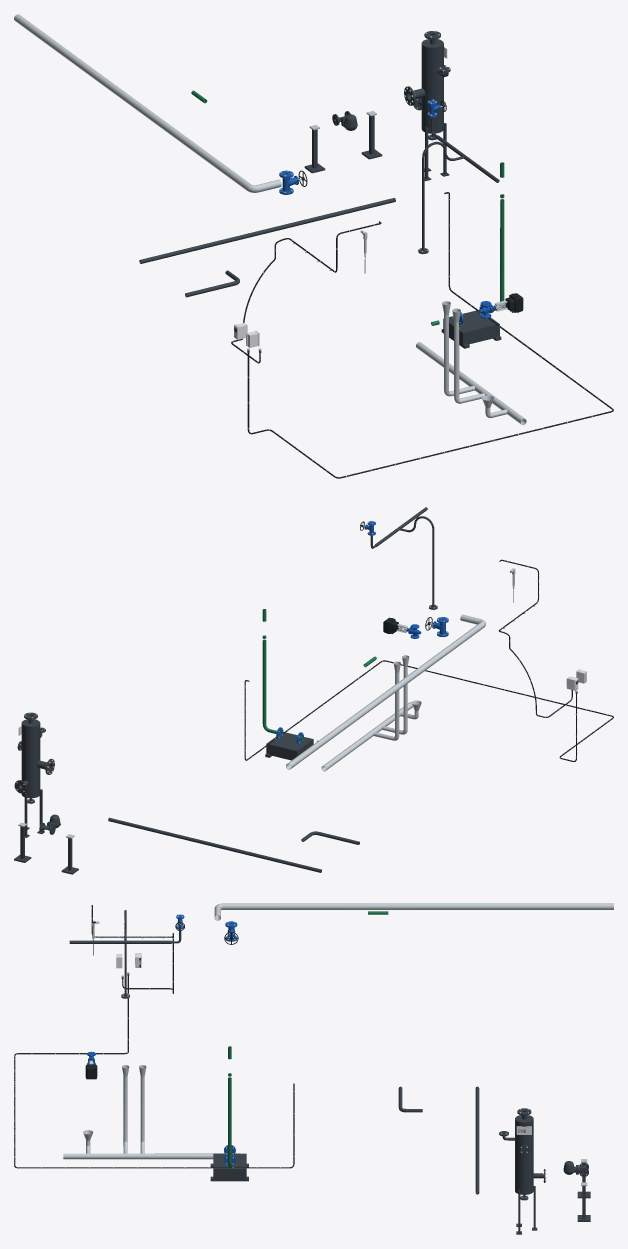
File: s4000-5-BTJrWQdZ.glb
3 views of the same model, one above another, from view 1: azimuth 30°, elevation 25°; view 2: azimuth 150°, elevation 25°; view 3: azimuth 270°, elevation 25° (orthographic). The views are drawn at different scales.
Visible parts, largest first — view 1: separator_fv8 / dark, safety_vent_2 / steel, local_open_drains / steel, wiring_pump_2 / black, bottom_discharge / dark, pump_branch_1 / dark, pressure_header / dark, trap_support / dark, pump_branch_1 / green, bcv925 / bcv925_0.npz; view 2: separator_fv8 / dark, safety_vent_2 / steel, local_open_drains / steel, wiring_pump_2 / black, bottom_discharge / dark, pump_branch_1 / dark, pressure_header / dark, pump_branch_1 / green; view 3: safety_vent_2 / steel, local_open_drains / steel, separator_fv8 / dark, wiring_pump_2 / black, pump_branch_1 / dark, pressure_header / dark, bottom_discharge / dark.
Boxes of the visible parts, left/top/right/bottom form: separator_fv8 / dark: left=404, top=31, right=450, bottom=181; safety_vent_2 / steel: left=14, top=14, right=281, bottom=192; local_open_drains / steel: left=416, top=301, right=526, bottom=425; wiring_pump_2 / black: left=247, top=192, right=613, bottom=478; bottom_discharge / dark: left=139, top=198, right=395, bottom=263; pump_branch_1 / dark: left=441, top=310, right=501, bottom=348; pressure_header / dark: left=418, top=117, right=499, bottom=253; trap_support / dark: left=304, top=115, right=382, bottom=173; pump_branch_1 / green: left=431, top=162, right=504, bottom=325; bcv925 / bcv925_0.npz: left=478, top=293, right=523, bottom=318; separator_fv8 / dark: left=14, top=712, right=54, bottom=837; safety_vent_2 / steel: left=286, top=614, right=485, bottom=769; local_open_drains / steel: left=321, top=655, right=421, bottom=771; wiring_pump_2 / black: left=244, top=660, right=613, bottom=761; bottom_discharge / dark: left=108, top=817, right=321, bottom=872; pump_branch_1 / dark: left=265, top=732, right=313, bottom=760; pressure_header / dark: left=370, top=507, right=437, bottom=609; pump_branch_1 / green: left=262, top=609, right=318, bottom=741; safety_vent_2 / steel: left=214, top=903, right=613, bottom=920; local_open_drains / steel: left=63, top=1065, right=239, bottom=1159; separator_fv8 / dark: left=499, top=1108, right=545, bottom=1234; wiring_pump_2 / black: left=14, top=976, right=294, bottom=1168; pump_branch_1 / dark: left=210, top=1153, right=248, bottom=1181; pressure_header / dark: left=69, top=910, right=181, bottom=998; bottom_discharge / dark: left=475, top=1086, right=479, bottom=1194.
Size of the model in its own units: 5.02 by 3.03 by 7.03.
